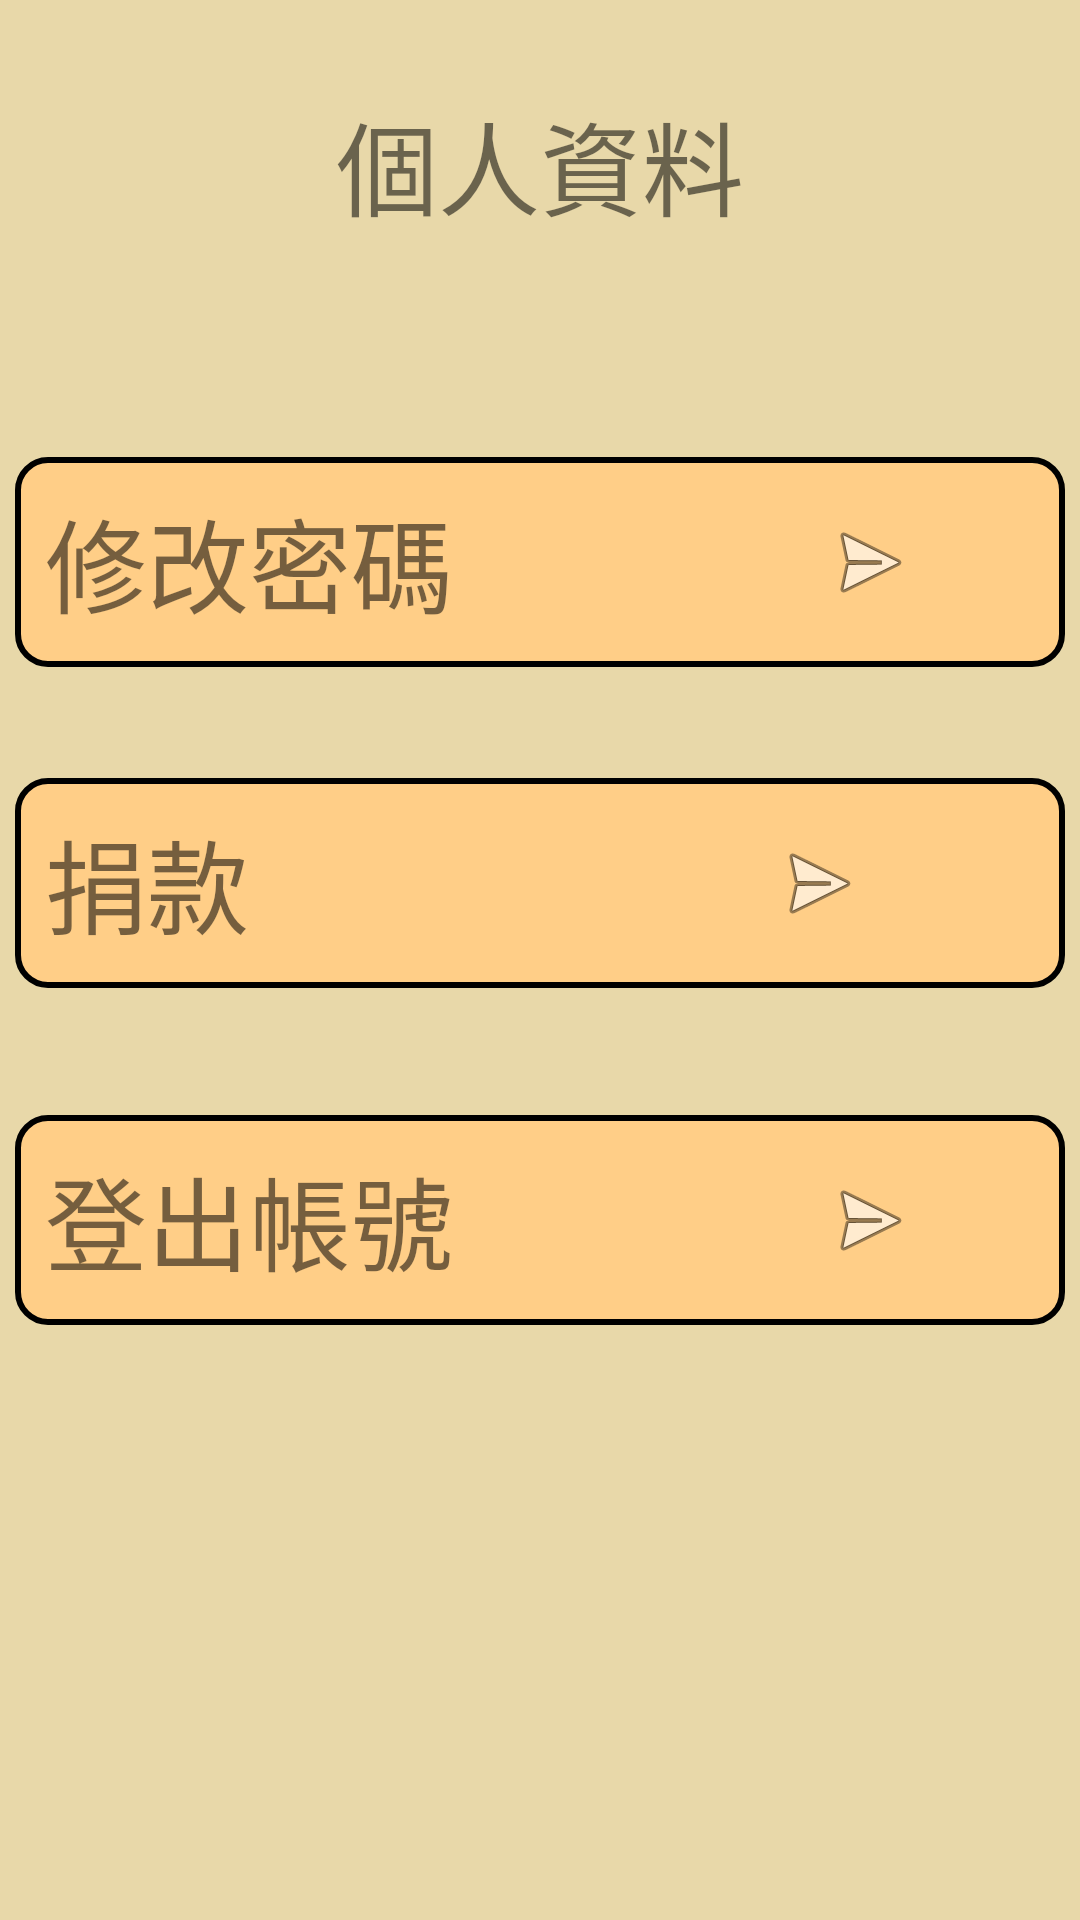

Locate icon controls on the screen. Image size 1080px×1920px, boxes as (x1, y1, x2, y2).
send: (840, 532, 902, 593), (789, 853, 851, 914), (840, 1190, 902, 1251)
